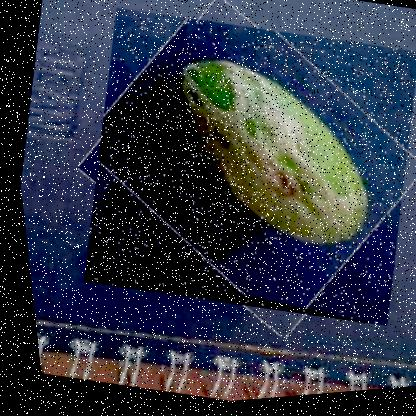orange_rotten: (52, 0, 415, 351)
